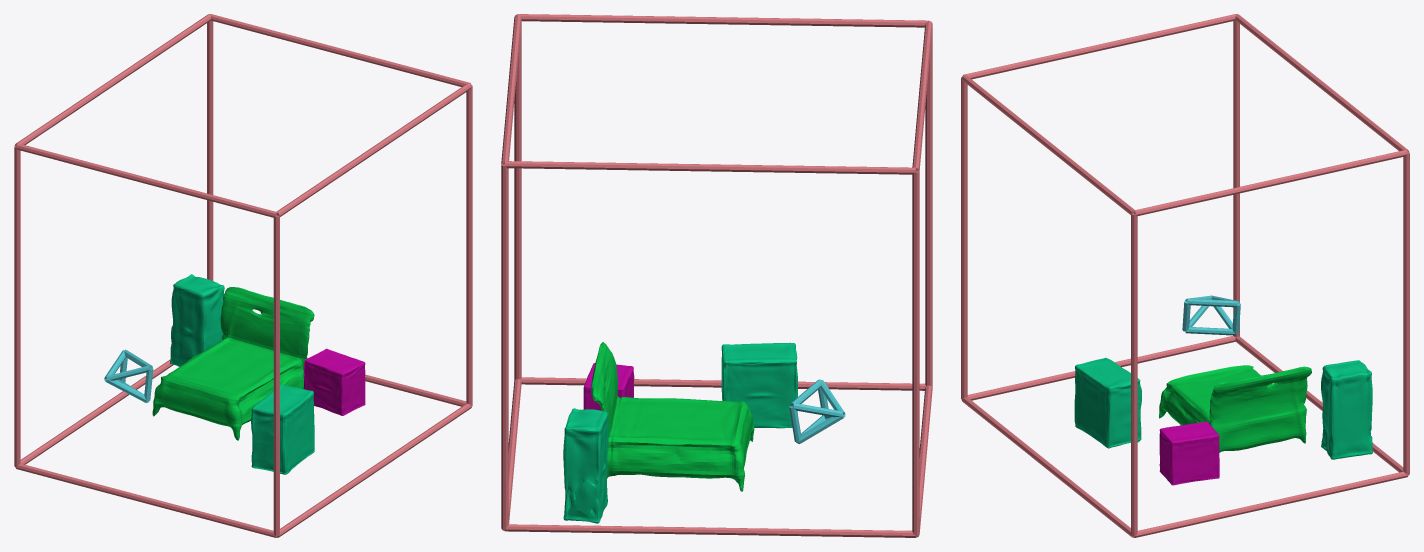
The picture shows the model from 3 angles, left to right: view 1: azimuth 30°, elevation 25°; view 2: azimuth 150°, elevation 25°; view 3: azimuth 270°, elevation 25°; orthographic projection. The views are drawn at different scales.
Visible parts, largest first — view 1: world; view 2: world; view 3: world.
Part boxes in pixels (bbox=[...]): world: bbox=[14, 14, 472, 537]; world: bbox=[501, 14, 932, 537]; world: bbox=[961, 14, 1409, 537].
Size of the model in its own units: 7.02 by 5.37 by 6.68.
